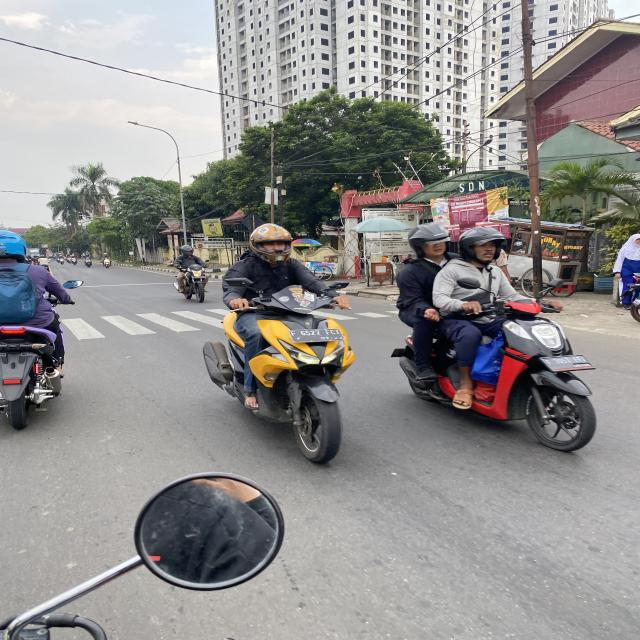Helmet: (250, 223, 291, 263), (459, 227, 505, 260), (408, 222, 449, 256), (0, 230, 26, 260), (180, 244, 193, 255)
Number Plate: (540, 355, 594, 371), (290, 329, 341, 342)
Rearview Mirror: (135, 474, 283, 589), (457, 277, 481, 289), (224, 277, 252, 287), (62, 280, 83, 288), (548, 277, 563, 288), (330, 281, 349, 289)
